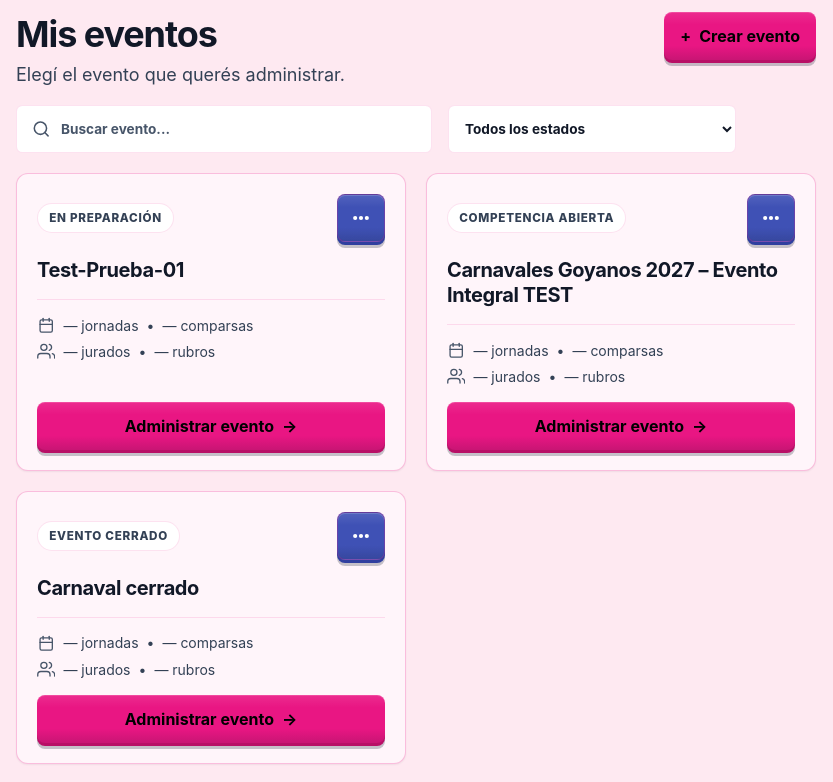
Test case: AdminHomePage (Rediseño a Mis eventos) › filtra eventos por texto (insensible a acentos y mayúsculas) y por estado
The width and height of the screenshot is (833, 782).
Expected: the element "Test-Prueba-01" is shown, [16,173,406,471]
Type "GOYANOS" into the search field labelled "Buscar evento" at (224, 129), box [16,105,432,153]
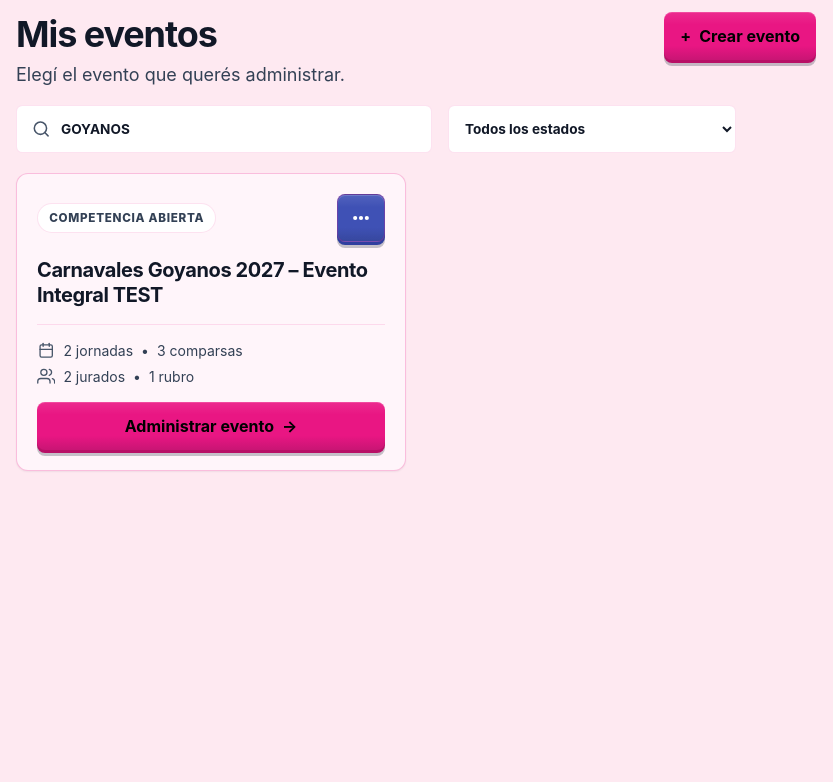
Expected: the element "Carnavales Goyanos 2027 – Evento Integral TEST" is shown, [16,173,406,471]
Clear the search field named "Buscar evento" at (224, 129), box [16,105,432,153]
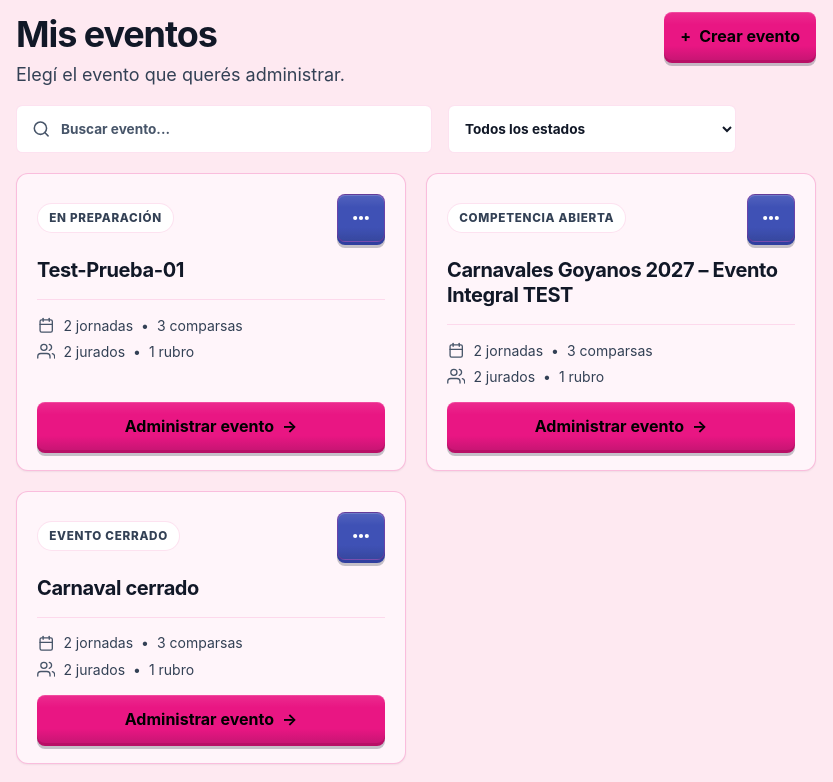
Select "Evento cerrado" in the dropdown named "Filtrar por estado" at (592, 129), box [448,105,736,153]
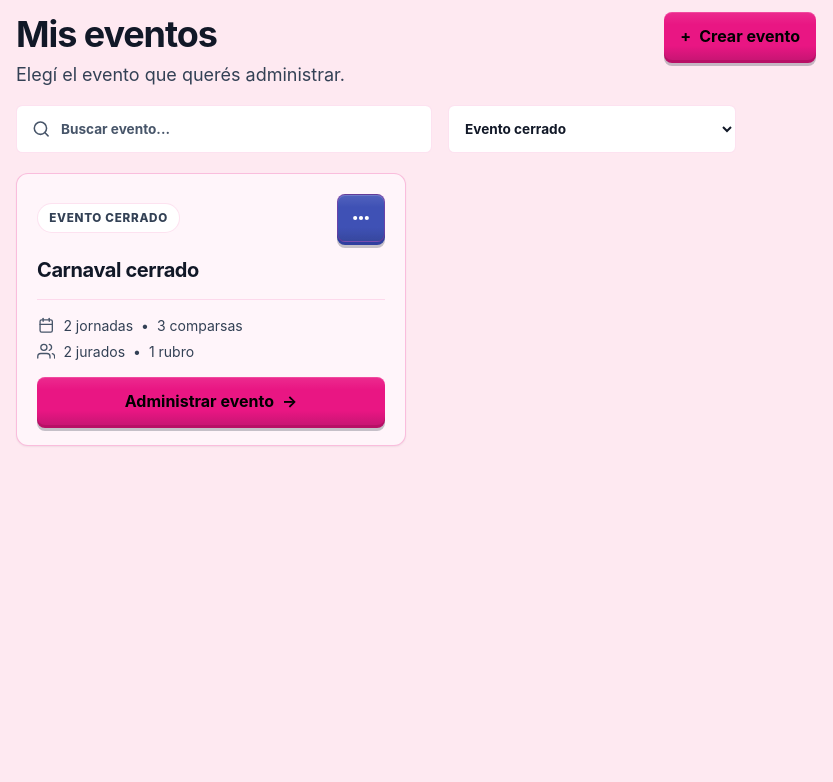
Result: the element "Carnaval cerrado" is shown at [16,173,406,446]
Type "inexistente" into the search field labelled "Buscar evento" at (224, 129), box [16,105,432,153]
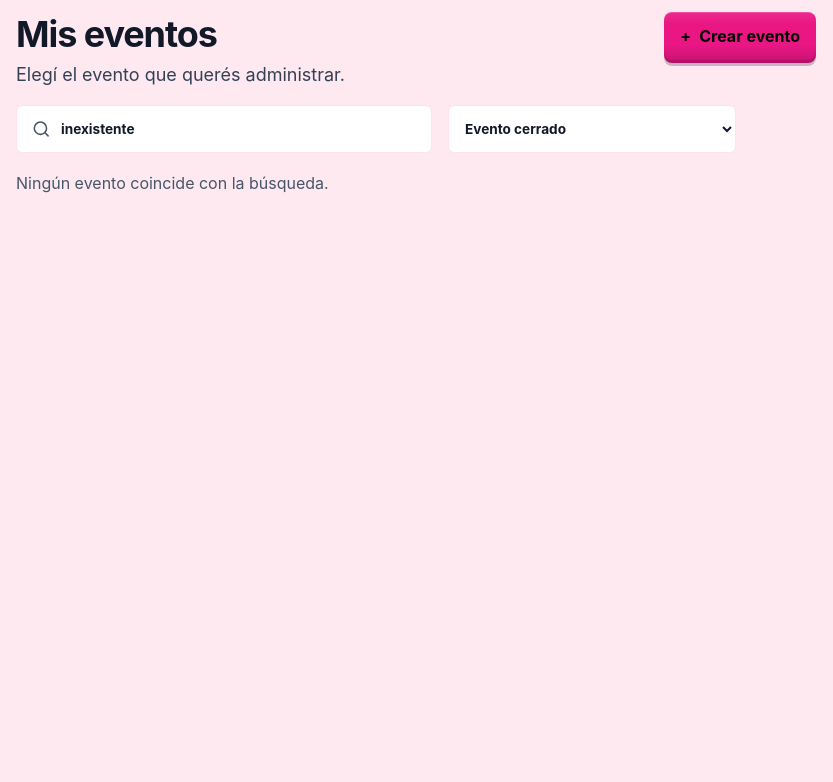
Result: the text "Ningún evento coincide con la búsqueda." is shown at [16,173,329,193]
